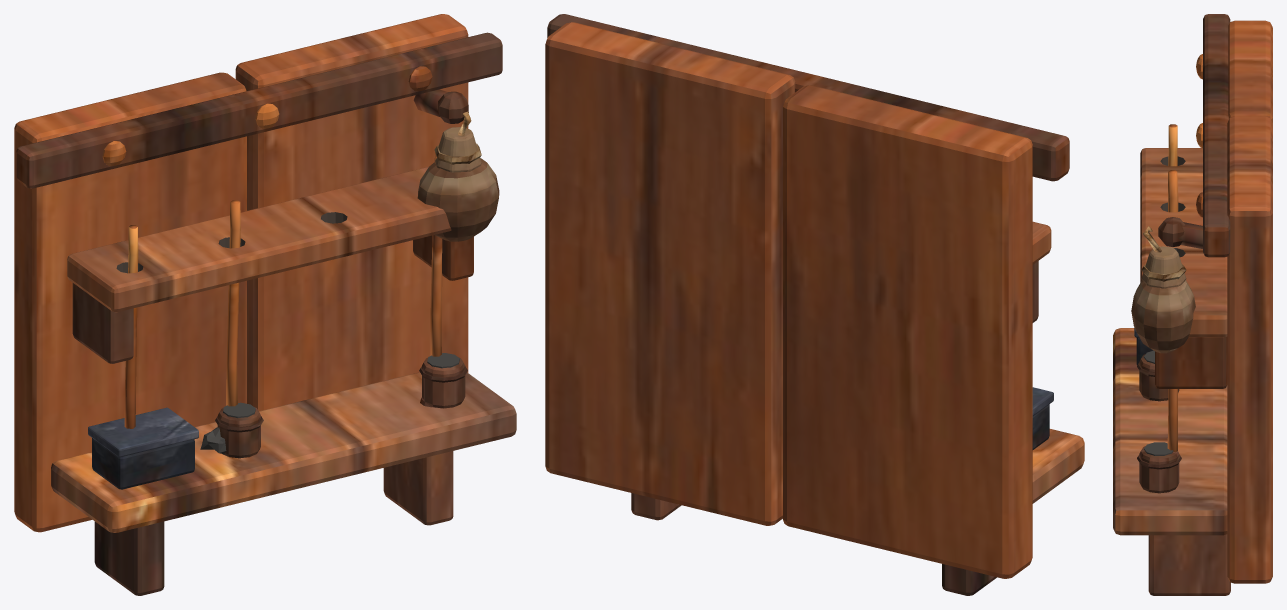
Rendered from op_pipe_rack.glb.
The picture shows the model from 3 angles, left to right: view 1: azimuth 30°, elevation 25°; view 2: azimuth 150°, elevation 25°; view 3: azimuth 270°, elevation 25°; orthographic projection. The views are drawn at different scales.
Parts seen in each view (by area): view 1: model; view 2: model; view 3: model.
Boxes of the visible parts, x1=… form: model: x1=14, y1=14, x2=516, y2=595; model: x1=545, y1=14, x2=1084, y2=595; model: x1=1113, y1=14, x2=1272, y2=595.
Size of the model in its own units: 0.56 by 0.504 by 0.176.
19 materials, 17 textured.
